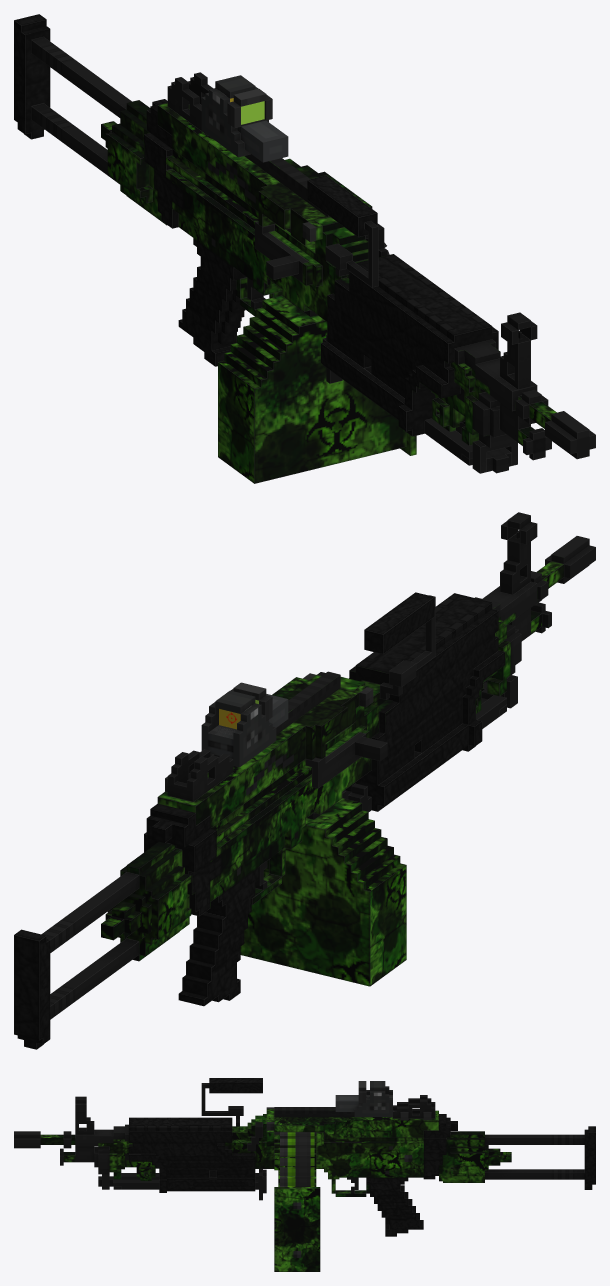
3 views of the same model, one above another, from view 1: azimuth 30°, elevation 25°; view 2: azimuth 150°, elevation 25°; view 3: azimuth 270°, elevation 25° (orthographic). The views are drawn at different scales.
Parts seen in each view (by area): view 1: M249, M249_CLIP, M249_BODY_P2, SCOPE_EOTECH, M249_BOLT, SCOPE_AIMPOINT, M249_DIPOD_LEG1, M249_DIPOD; view 2: M249, M249_CLIP, M249_BODY_P2, SCOPE_EOTECH, M249_BOLT, M249_DIPOD_LEG1, SCOPE_AIMPOINT; view 3: M249, M249_BODY_P2, M249_CLIP, SCOPE_EOTECH, M249_DIPOD_LEG2, M249_BULLET3, M249_BULLET6, M249_BULLET2, M249_BULLET5, M249_BULLET4.
Part boxes in pixels (x1=…): M249: x1=14, y1=14, x2=595, y2=473; M249_CLIP: x1=218, y1=295, x2=416, y2=483; M249_BODY_P2: x1=157, y1=72, x2=372, y2=245; SCOPE_EOTECH: x1=201, y1=75, x2=288, y2=162; M249_BOLT: x1=255, y1=221, x2=308, y2=282; SCOPE_AIMPOINT: x1=227, y1=88, x2=272, y2=127; M249_DIPOD_LEG1: x1=322, y1=334, x2=472, y2=459; M249_DIPOD: x1=461, y1=448, x2=511, y2=473; M249: x1=14, y1=512, x2=595, y2=1049; M249_CLIP: x1=240, y1=798, x2=406, y2=986; M249_BODY_P2: x1=157, y1=671, x2=373, y2=827; SCOPE_EOTECH: x1=201, y1=690, x2=288, y2=767; M249_BOLT: x1=305, y1=732, x2=387, y2=788; M249_DIPOD_LEG1: x1=348, y1=695, x2=506, y2=811; SCOPE_AIMPOINT: x1=208, y1=682, x2=272, y2=738; M249: x1=14, y1=1078, x2=595, y2=1236; M249_BODY_P2: x1=266, y1=1095, x2=438, y2=1140; M249_CLIP: x1=274, y1=1170, x2=320, y2=1271; SCOPE_EOTECH: x1=335, y1=1081, x2=392, y2=1116; M249_DIPOD_LEG2: x1=113, y1=1172, x2=266, y2=1200; M249_BULLET3: x1=280, y1=1166, x2=314, y2=1176; M249_BULLET6: x1=280, y1=1136, x2=314, y2=1147; M249_BULLET2: x1=280, y1=1176, x2=314, y2=1185; M249_BULLET5: x1=280, y1=1145, x2=314, y2=1156; M249_BULLET4: x1=280, y1=1155, x2=314, y2=1165.
Size of the model in its own units: 0.2461 by 0.4725 by 1.5.
Materials: 5 (5 with a texture image).
